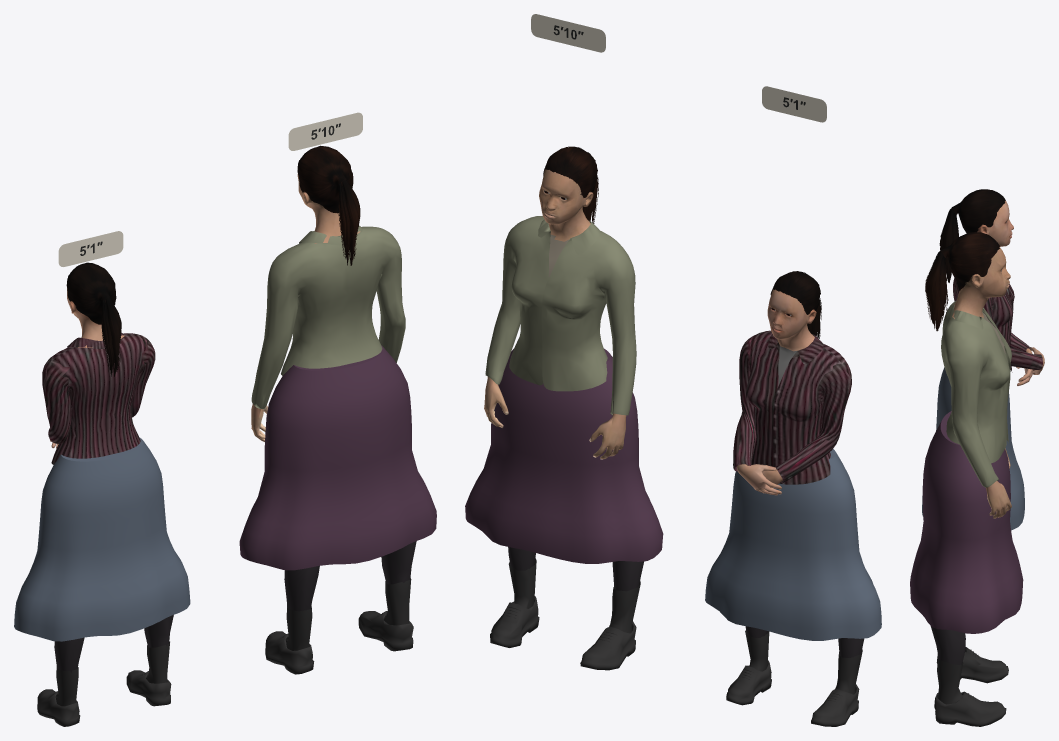
Rendered from mechitza-women.glb.
The picture shows the model from 3 angles, left to right: view 1: azimuth 30°, elevation 25°; view 2: azimuth 150°, elevation 25°; view 3: azimuth 270°, elevation 25°; orthographic projection. The views are drawn at different scales.
Visible parts, largest first — view 1: Amara · opaque skirt, Mei · opaque skirt, Amara · jacket, Mei · jacket, Amara · shoes, Amara · hair, Amara · face, hands and stockings, Mei · shoes, Mei · hair, Mei · face, hands and stockings, Amara · 5′10″ plaque · Artwork side, Mei · 5′1″ plaque · Artwork side; view 2: Amara · opaque skirt, Mei · opaque skirt, Amara · jacket, Mei · jacket, Amara · face, hands and stockings, Amara · shoes, Mei · face, hands and stockings, Mei · shoes, Amara · hair, Amara · 5′10″ plaque · Glass side, Mei · hair, Mei · 5′1″ plaque · Glass side; view 3: Amara · opaque skirt, Amara · jacket, Amara · shoes, Amara · face, hands and stockings, Amara · hair, Mei · hair, Mei · jacket, Mei · opaque skirt, Mei · face, hands and stockings.
Part boxes in pixels (left/top/right/bottom): Amara · opaque skirt: left=239, top=345, right=436, bottom=570; Mei · opaque skirt: left=14, top=437, right=190, bottom=641; Amara · jacket: left=251, top=225, right=405, bottom=409; Mei · jacket: left=42, top=332, right=155, bottom=464; Amara · shoes: left=265, top=578, right=413, bottom=674; Amara · hair: left=297, top=145, right=360, bottom=265; Amara · face, hands and stockings: left=251, top=174, right=416, bottom=611; Mei · shoes: left=37, top=641, right=171, bottom=726; Mei · hair: left=66, top=262, right=121, bottom=376; Mei · face, hands and stockings: left=50, top=288, right=173, bottom=672; Amara · 5′10″ plaque · Artwork side: left=288, top=112, right=362, bottom=150; Mei · 5′1″ plaque · Artwork side: left=58, top=231, right=123, bottom=266; Amara · opaque skirt: left=465, top=348, right=663, bottom=563; Mei · opaque skirt: left=705, top=449, right=881, bottom=640; Amara · jacket: left=485, top=216, right=636, bottom=415; Mei · jacket: left=733, top=330, right=851, bottom=484; Amara · face, hands and stockings: left=484, top=169, right=644, bottom=591; Amara · shoes: left=490, top=558, right=640, bottom=670; Mei · face, hands and stockings: left=737, top=289, right=864, bottom=657; Mei · shoes: left=726, top=630, right=862, bottom=726; Amara · hair: left=543, top=146, right=598, bottom=223; Amara · 5′10″ plaque · Glass side: left=531, top=14, right=605, bottom=52; Mei · hair: left=770, top=271, right=821, bottom=338; Mei · 5′1″ plaque · Glass side: left=762, top=86, right=826, bottom=122; Amara · opaque skirt: left=910, top=411, right=1023, bottom=633; Amara · jacket: left=941, top=300, right=1011, bottom=487; Amara · shoes: left=934, top=647, right=1008, bottom=726; Amara · face, hands and stockings: left=930, top=247, right=1011, bottom=664; Amara · hair: left=925, top=232, right=999, bottom=331; Mei · hair: left=939, top=189, right=1005, bottom=282; Mei · jacket: left=953, top=278, right=1042, bottom=372; Mei · opaque skirt: left=922, top=367, right=1024, bottom=530; Mei · face, hands and stockings: left=977, top=200, right=1044, bottom=385.
Bounding box in the file's own units: 1.51 × 2.23 × 0.472.
Materials: 12 (2 with a texture image).
